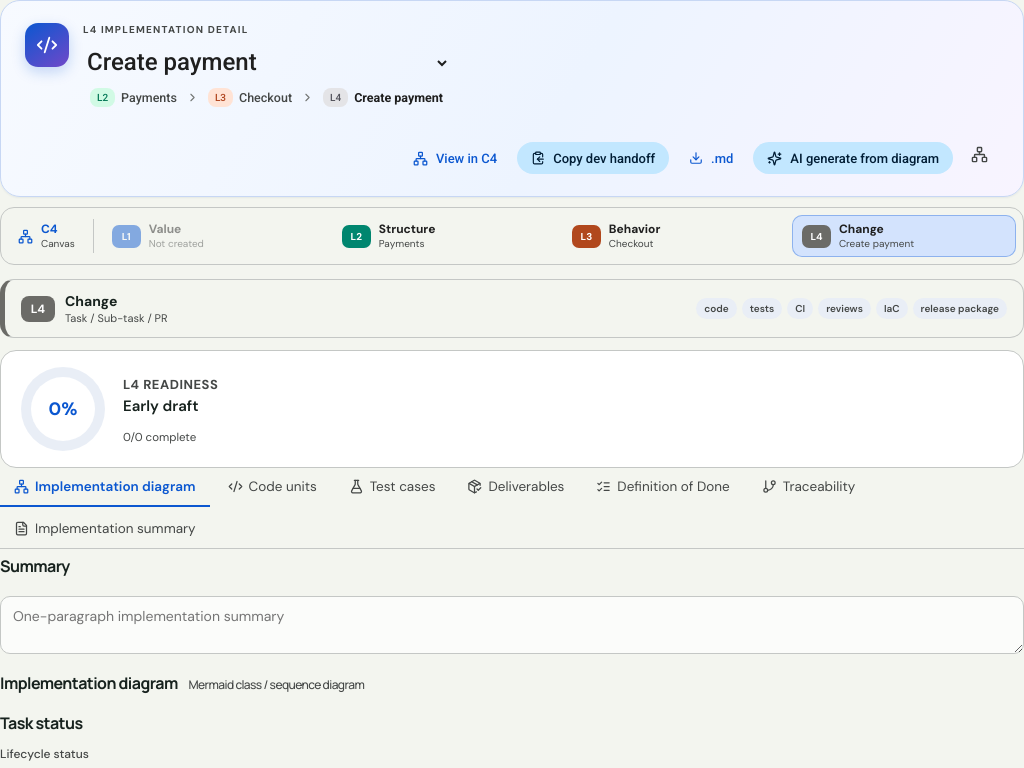
Test case: level workspace coverage › generates the complete L4 plan from the implementation diagram and opens the final summary
Click the button "AI generate from diagram" at (853, 158), box [753,142,953,174]
(page scrolled)
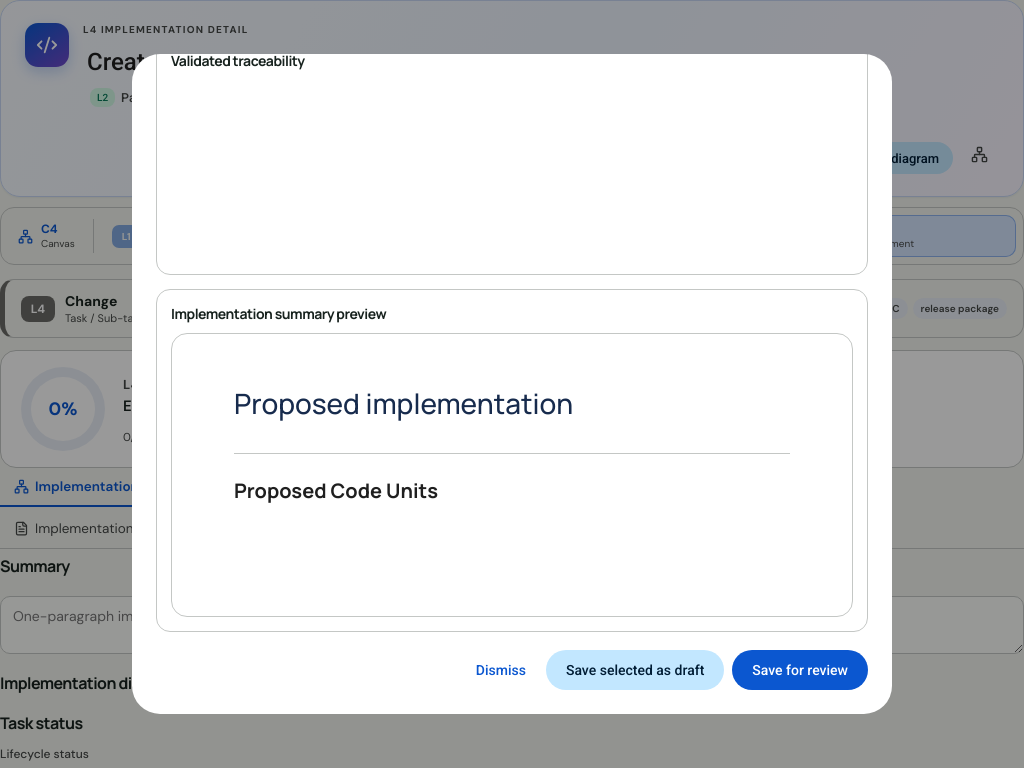
Expected: the dialog "AI L4 context-grounded draft" is shown
Expected: the heading "Validated traceability" is shown, [171,54,304,70]
Expected: the heading "Implementation summary preview" is shown, [171,304,386,323]
Click the button "Save selected as draft" at (635, 670), box [546,650,724,690]
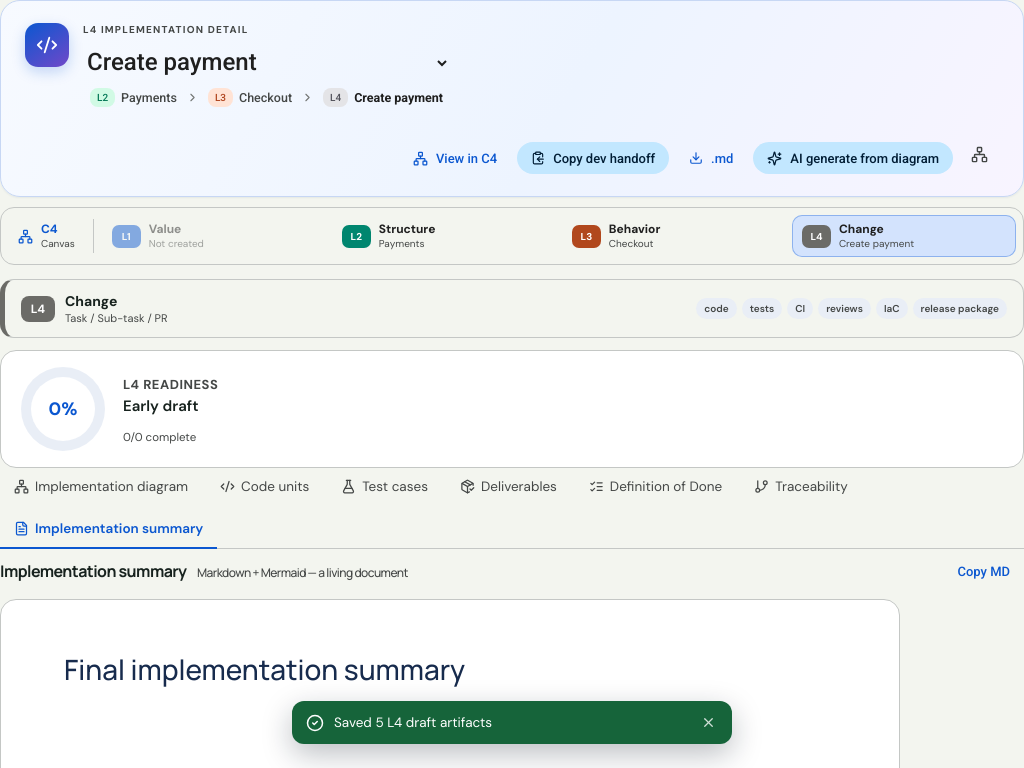
Expected: the heading "Final implementation summary" is shown, [64,650,465,688]
